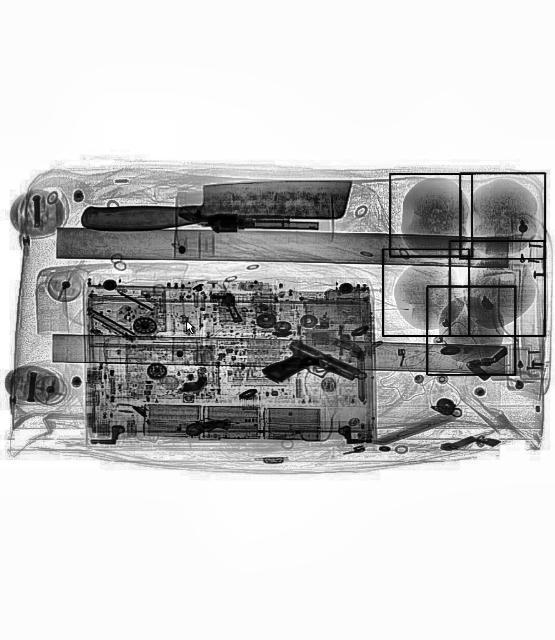Gun: (260, 328, 358, 412), (178, 205, 317, 233)
Knife: (81, 177, 352, 230)
